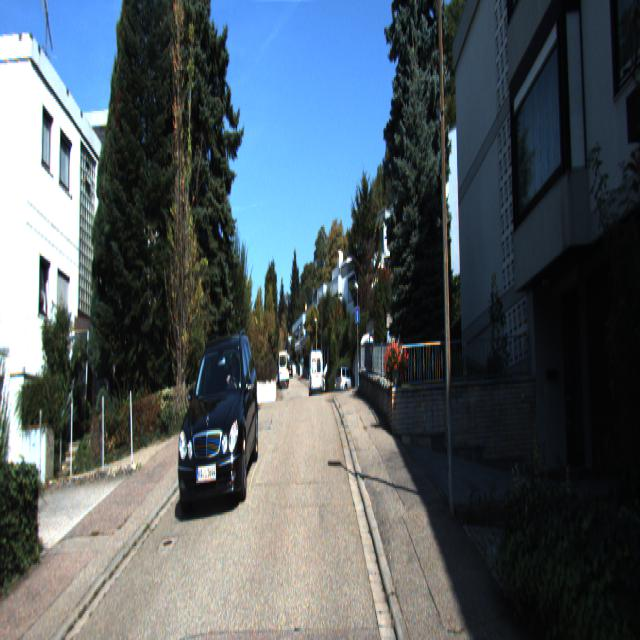Car: (177, 327, 261, 518), (308, 348, 324, 403)
